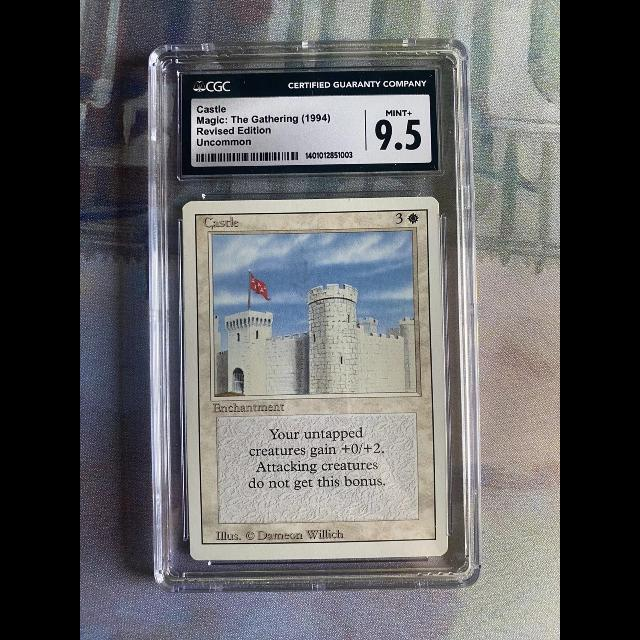card: (182, 195, 450, 562)
cgc_label: (181, 70, 438, 176)
cgc_slab: (148, 38, 482, 594)
